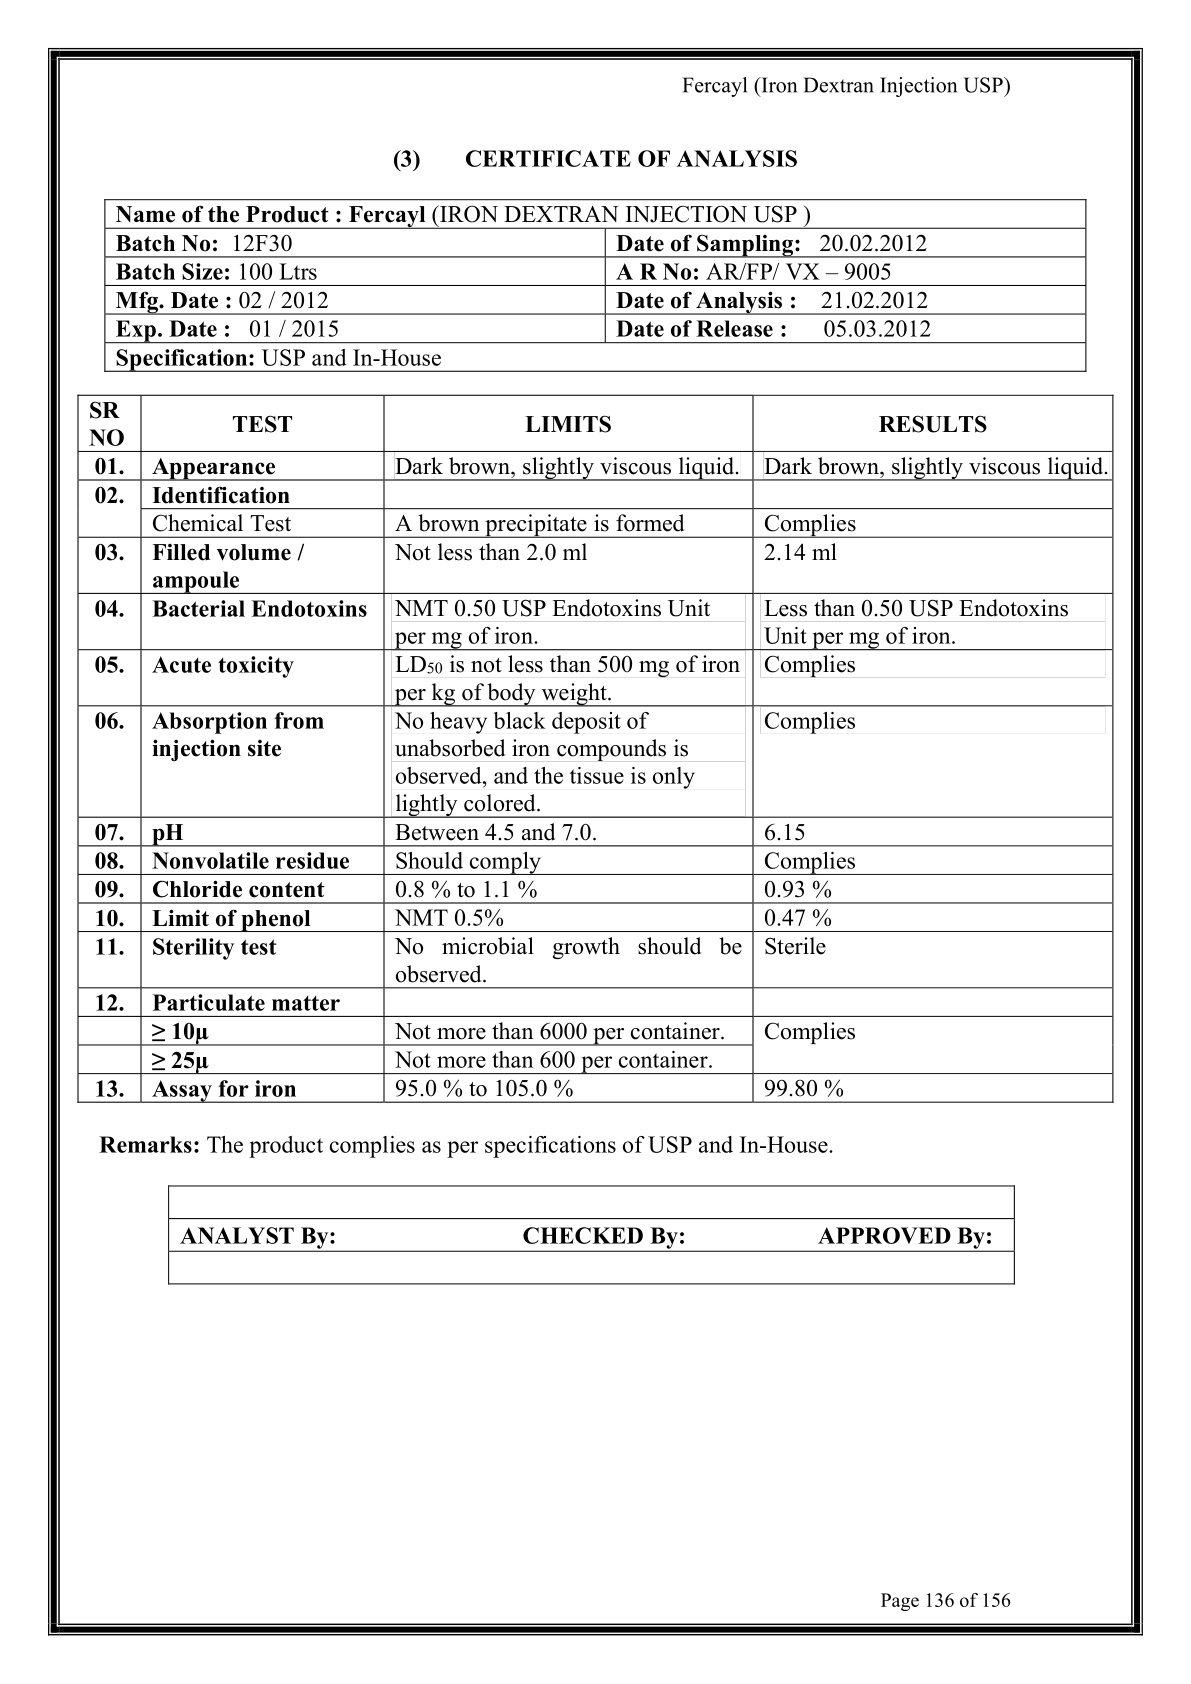full_lined: (77, 394, 1115, 1103), (165, 1184, 1016, 1286)
merged_cells: (103, 198, 1088, 372)
